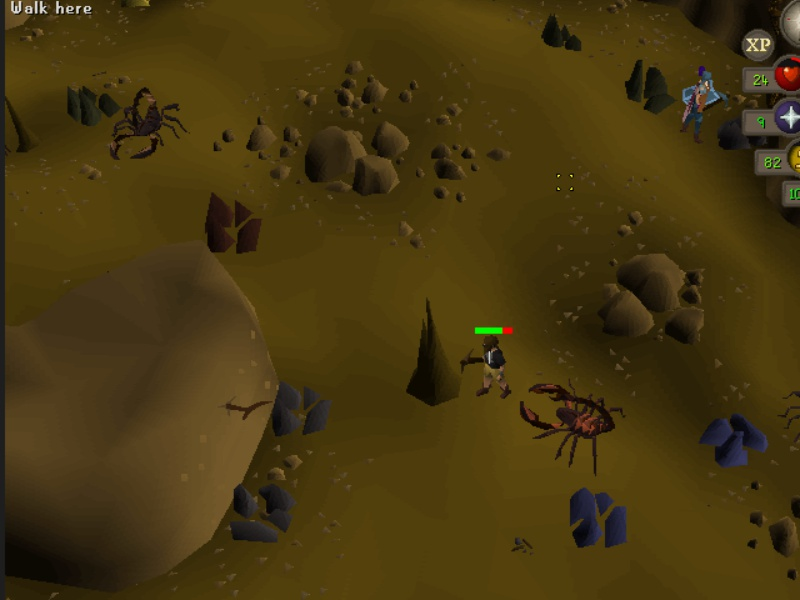coal: (622, 57, 680, 118), (63, 82, 124, 130), (539, 12, 585, 56)
iron: (200, 189, 265, 258)
mithril: (695, 412, 773, 470), (566, 485, 632, 551)
